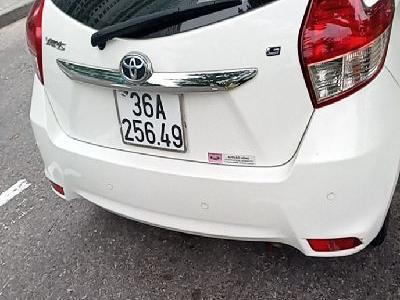lisence: (112, 88, 190, 154)
